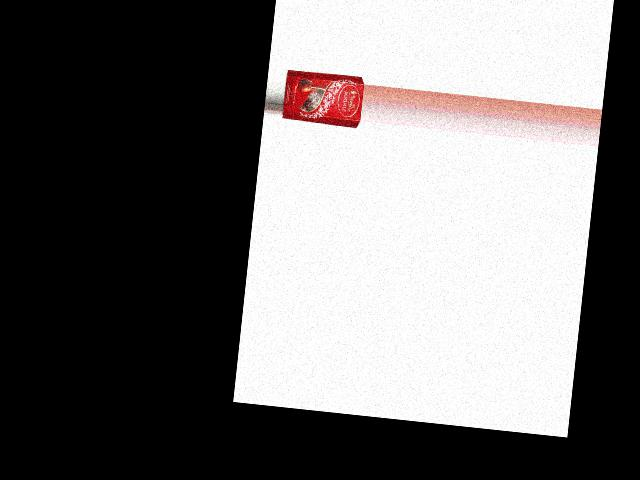chocolate: (281, 65, 364, 129)
